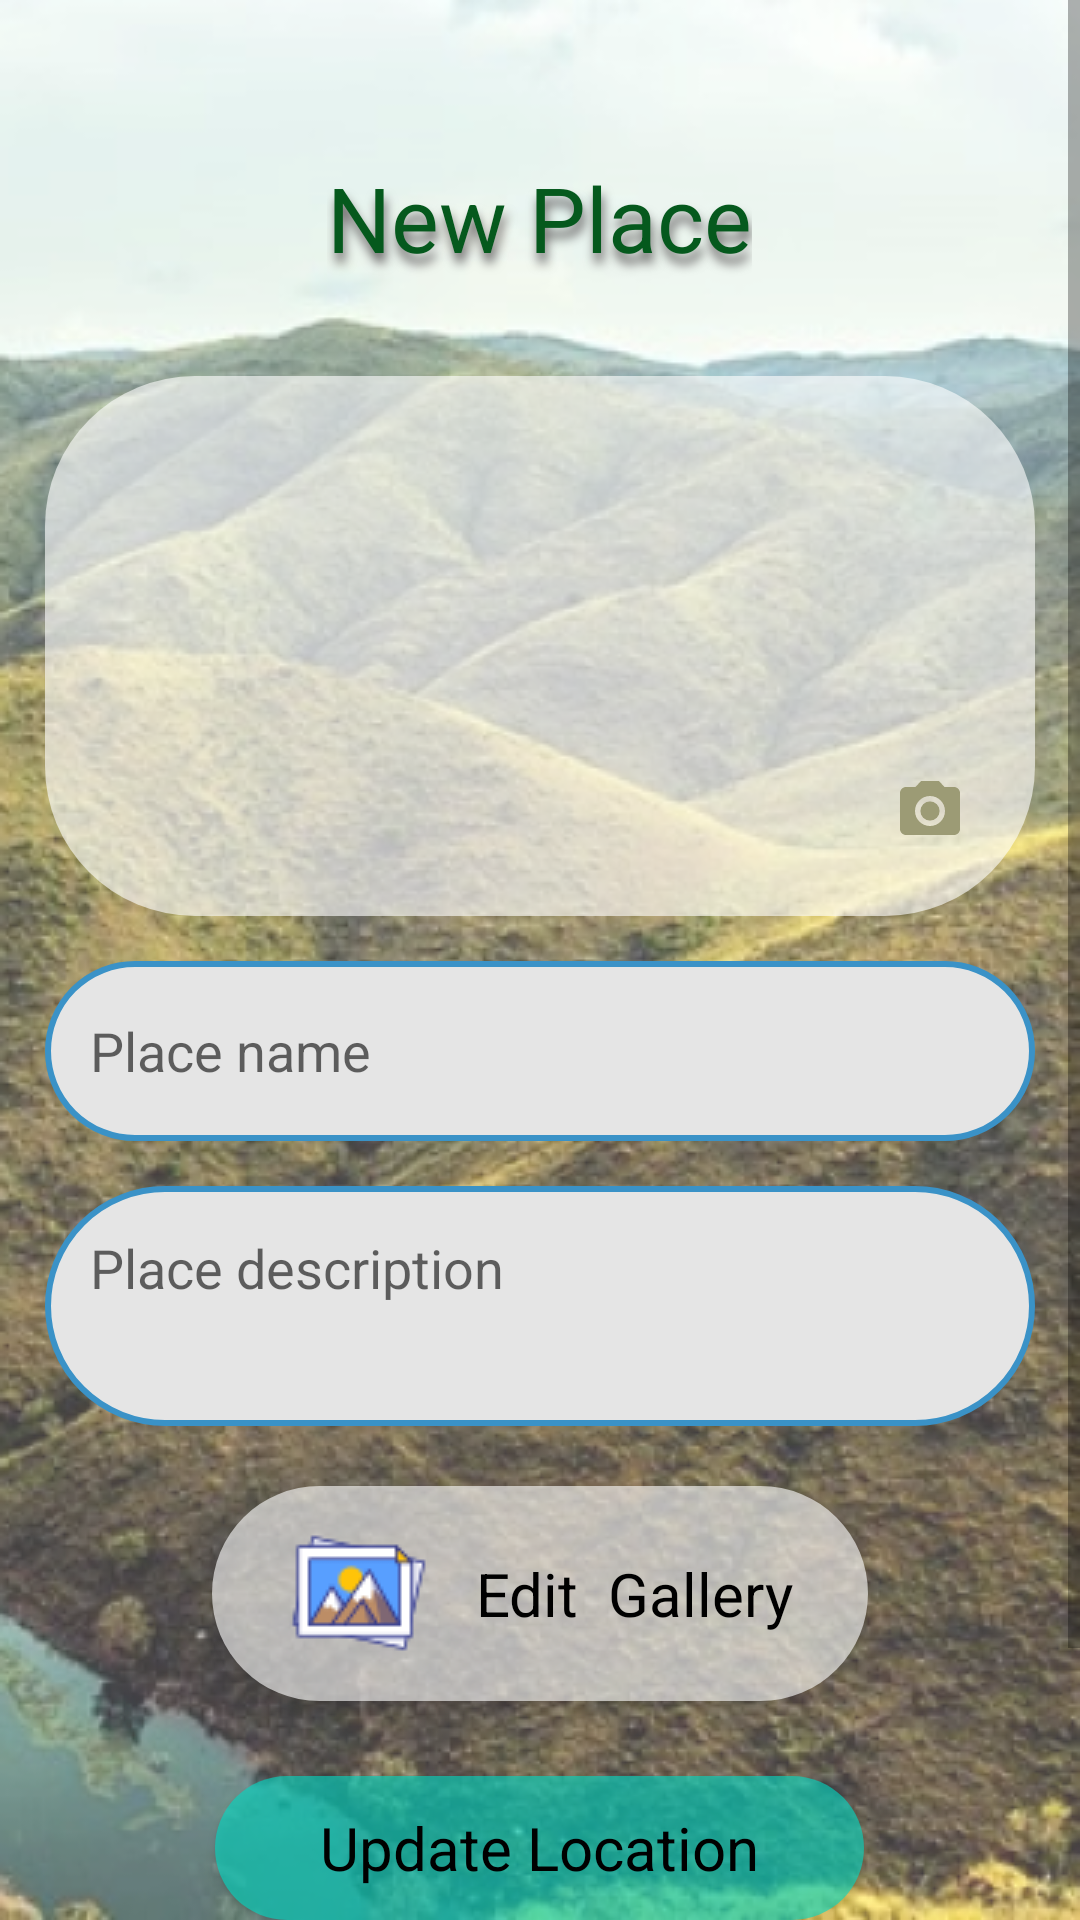

Screen size 1080 x 1920. Icon name, then its box in pixels as box(x1, y1, x2, y2):
camera: box(900, 781, 960, 869)
